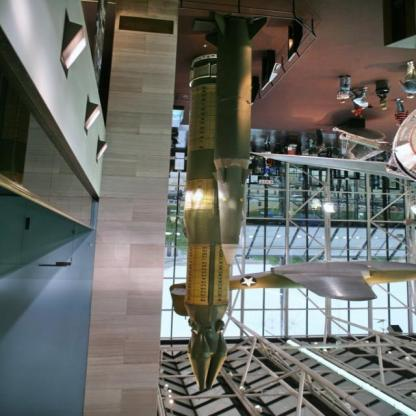MIL_TBM: (206, 16, 256, 268)
